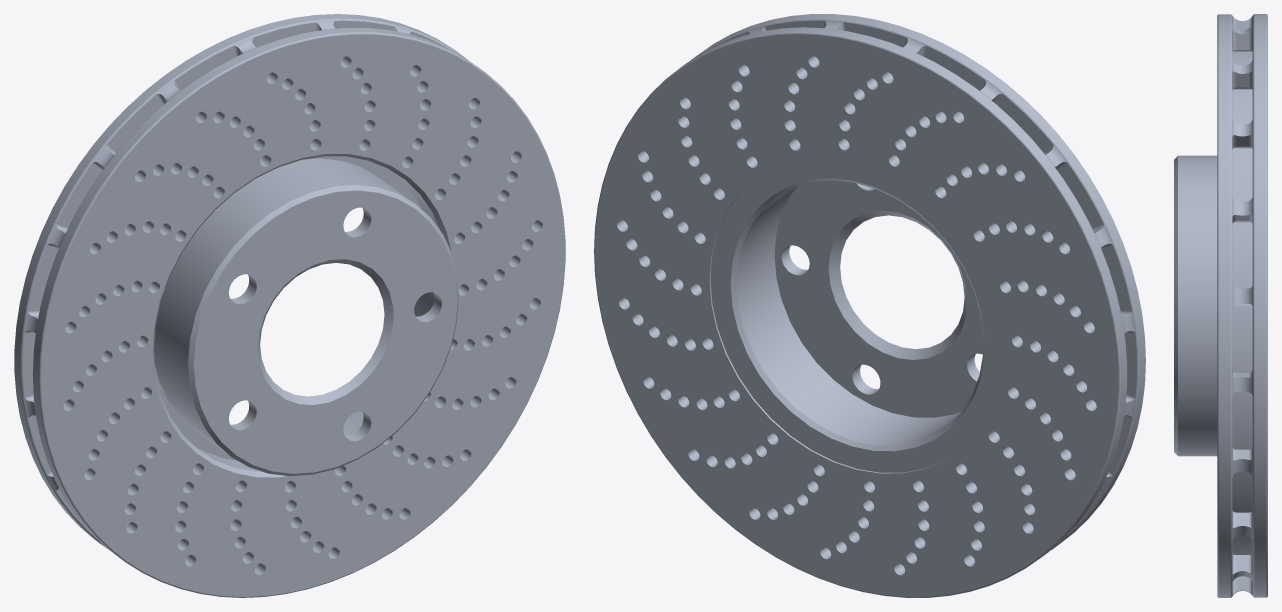
The model's file is peca3.glb.
3 renders of one model, left to right at view 1: azimuth 30°, elevation 25°; view 2: azimuth 150°, elevation 25°; view 3: azimuth 270°, elevation 25°, orthographic. The views are drawn at different scales.
Parts seen in each view (by area): view 1: Object_3, Object_2; view 2: Object_2, Object_3; view 3: Object_2, Object_3.
Part boxes in pixels (bbox=[...]): Object_3: bbox=[31, 27, 565, 597]; Object_2: bbox=[14, 14, 466, 549]; Object_2: bbox=[594, 27, 1127, 597]; Object_3: bbox=[691, 14, 1145, 549]; Object_2: bbox=[1174, 14, 1267, 597]; Object_3: bbox=[1217, 14, 1247, 597].
Bounding box in the file's own units: 288 × 288 × 46.33.
